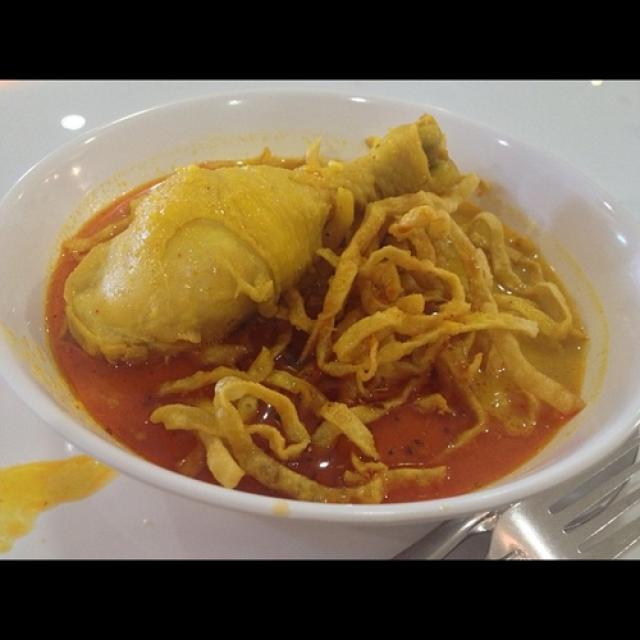面条主食: (27, 101, 601, 503)
